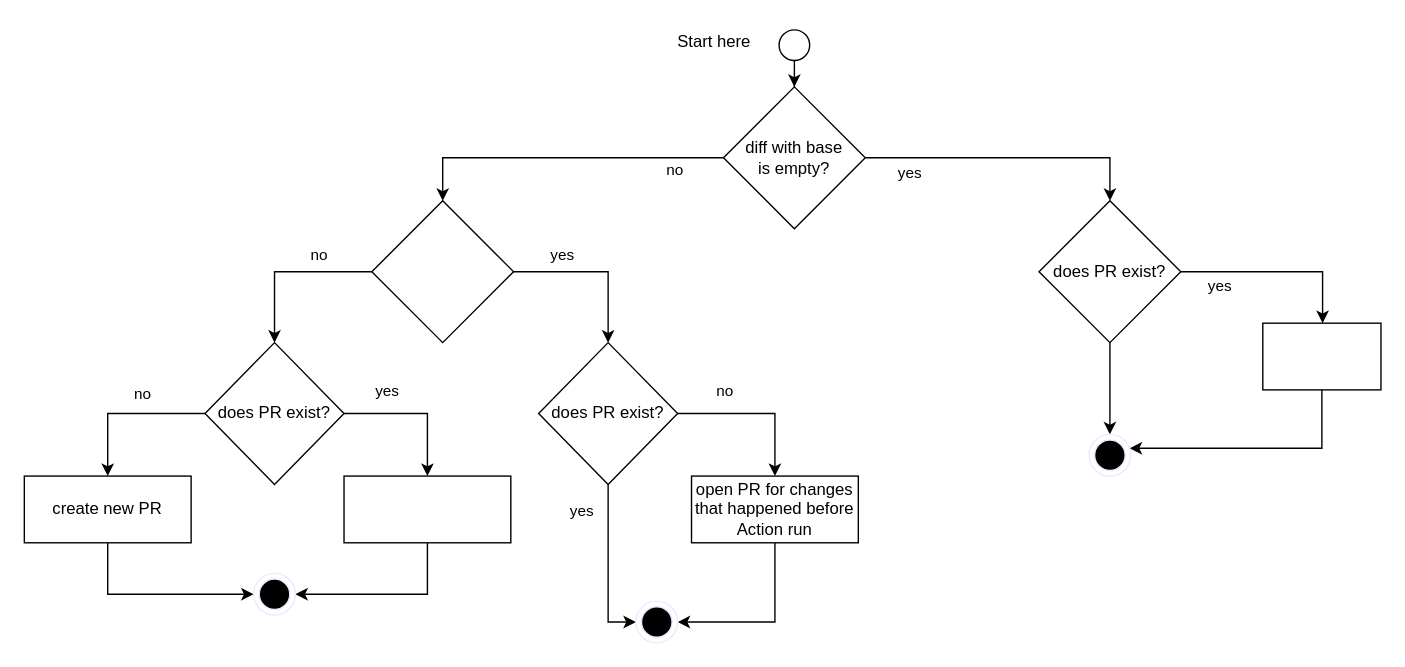
Some shapes in this 1405 by 667 pixel diagram are drawn without their labels. The shapes that lost their labels are listed below. From the top down, each one's centre as x and y in pixels, then its label:
(x=442, y=271): diff with origin head empty?
(x=1321, y=356): close already open PR
(x=427, y=509): update PR Body, add PR comment
